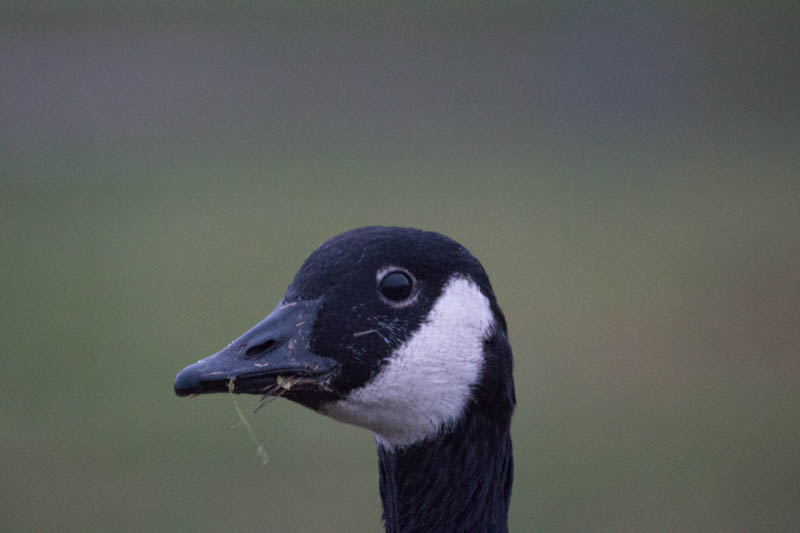goose-head: (175, 226, 514, 446)
